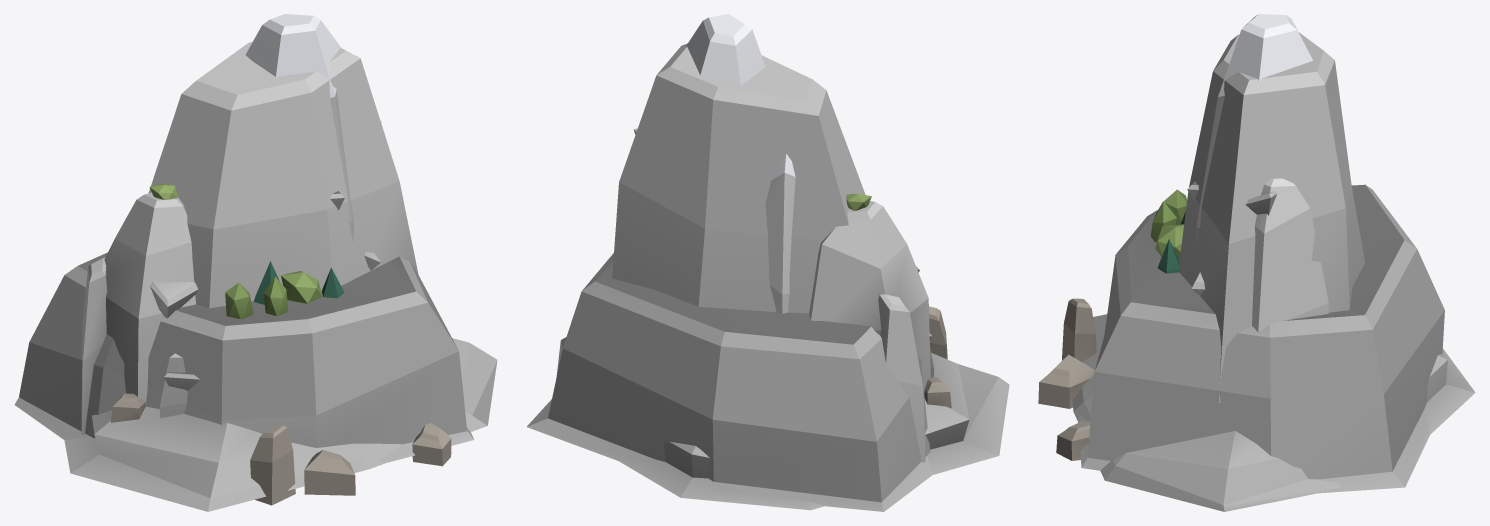
The model's file is crag-4.glb.
The picture shows the model from 3 angles, left to right: view 1: azimuth 30°, elevation 25°; view 2: azimuth 150°, elevation 25°; view 3: azimuth 270°, elevation 25°; orthographic projection. The views are drawn at different scales.
Visible parts, largest first — view 1: SaddleBase, SaddleBlock, CragBase, CragTooth0, CragTooth2, SaddleScree3, CragRib1, CragScree9, CragScree10, CragShelf6, CragTerrace, CragCrown2 (+3 smaller); view 2: SaddleBase, SaddleBlock, CragBase, CragTooth0, CragTooth2, CragRib1, CragTooth1, SaddleScree3, CragScree11; view 3: SaddleBase, SaddleBlock, CragBase, CragTooth3, CragTooth2, CragScree9, SaddleScree3, CragScree10, CragCrown2, SaddleShrub1.
Boxes of the visible parts, box(x1,y1,x2,y2) form: SaddleBase: box(14, 252, 474, 462); SaddleBlock: box(148, 41, 418, 308); CragBase: box(64, 338, 497, 511); CragTooth0: box(104, 192, 195, 404); CragTooth2: box(245, 14, 353, 242); SaddleScree3: box(250, 423, 295, 505); CragRib1: box(81, 257, 107, 435); CragScree9: box(304, 450, 355, 495); CragScree10: box(412, 423, 451, 466); CragShelf6: box(150, 281, 198, 318); CragTerrace: box(159, 353, 187, 418); CragCrown2: box(281, 271, 322, 303); SaddleBase: box(527, 253, 932, 511); SaddleBlock: box(612, 43, 865, 313); CragBase: box(556, 337, 1009, 510); CragTooth0: box(809, 201, 930, 393); CragTooth2: box(685, 14, 765, 85); CragRib1: box(878, 294, 925, 462); CragTooth1: box(765, 153, 795, 313); SaddleScree3: box(929, 306, 947, 359); CragScree11: box(924, 377, 951, 408); SaddleBase: box(1078, 184, 1444, 493); SaddleBlock: box(1179, 32, 1364, 403); CragBase: box(1072, 314, 1475, 511); CragTooth3: box(1252, 178, 1328, 331); CragTooth2: box(1196, 14, 1312, 247); CragScree9: box(1038, 354, 1094, 408); SaddleScree3: box(1062, 298, 1096, 362); CragScree10: box(1056, 421, 1090, 460); CragCrown2: box(1155, 224, 1183, 259); SaddleShrub1: box(1151, 201, 1176, 242).
Bounding box in the file's own units: 1.92 × 1.66 × 1.61.
